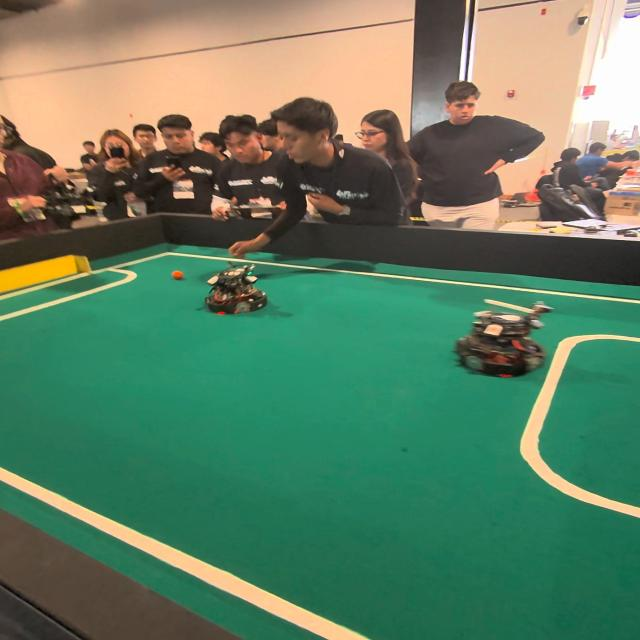Robot: (459, 300, 554, 389), (208, 262, 272, 318)
pelota: (170, 270, 183, 278)
